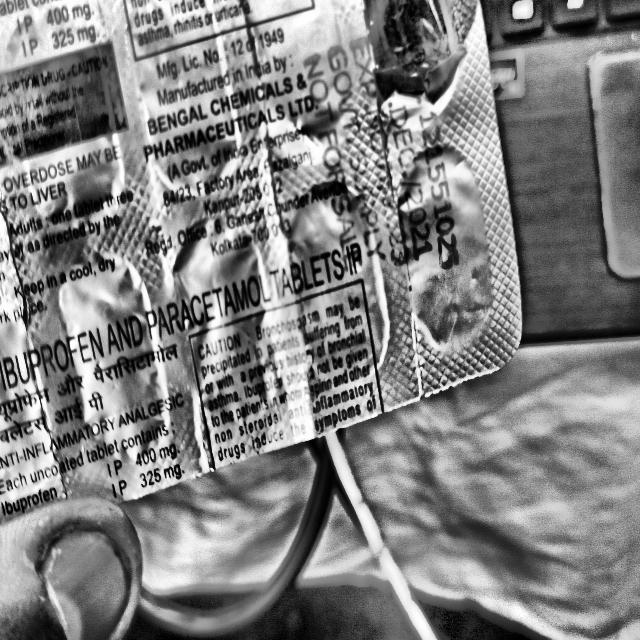IBUPROFEN AND PARACETAMOL TABLETS: (0, 234, 380, 413)
